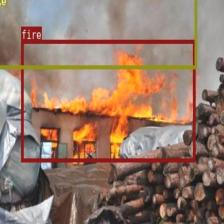fire: (21, 39, 195, 162)
smoke: (0, 0, 197, 68)
